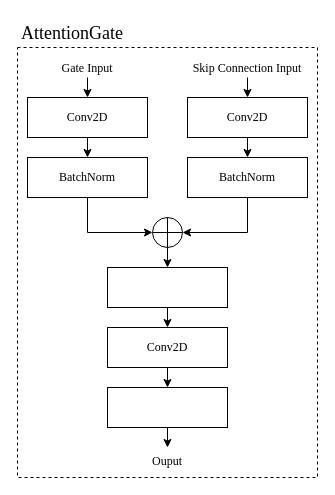
Image size: 335x495. Some labels were removed from this diagram. Here are the shapes that lost their labels. From the top down, the centre of each, then its label:
At point (167, 287): "ReLU".
At point (167, 407): "Sigmoid".
